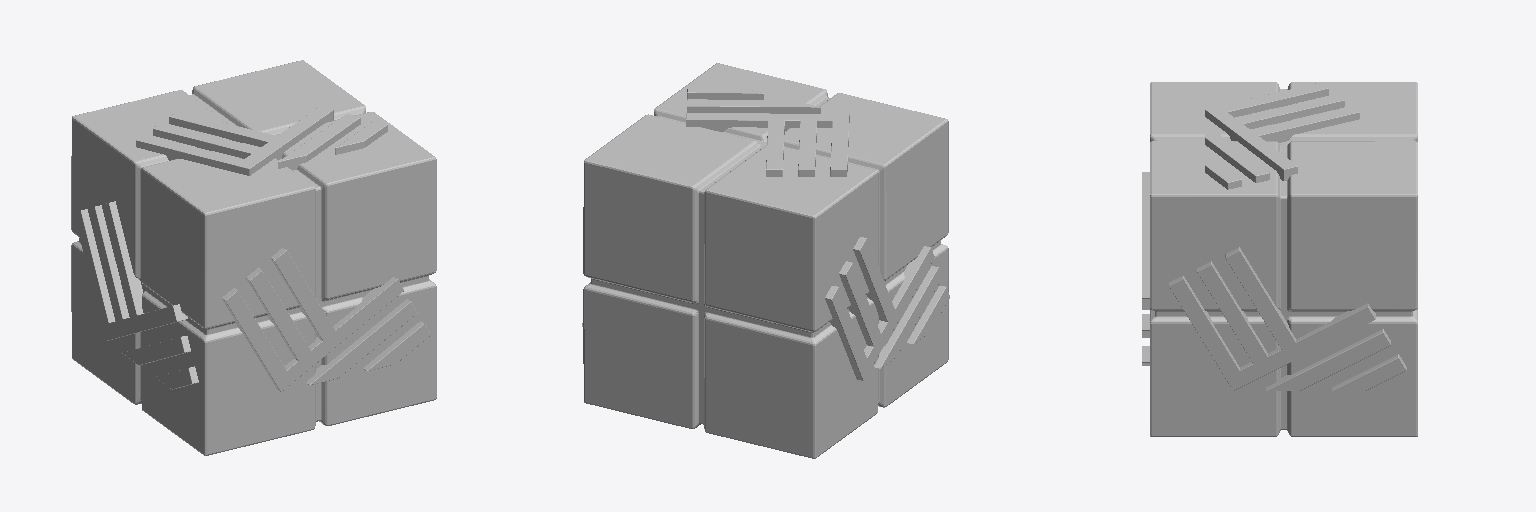
The model's file is dataPackage_GRP.obj.
The picture shows the model from 3 angles: view 1: azimuth 30°, elevation 25°; view 2: azimuth 150°, elevation 25°; view 3: azimuth 270°, elevation 25°; orthographic projection.
Visible parts, largest first — view 1: dataPackage_GEO dataPackage_GRP, dataPackage_GRP wing_GEO front_logoLiwest_GRP, dataPackage_GRP wing_GEO rgt_logoLiwest_GRP, dataPackage_GRP wing_GEO top_logoLiwest_GRP, dataPackage_GRP front_logoLiwest_GRP midPart_GEO, dataPackage_GRP top_logoLiwest_GRP midPart_GEO, dataPackage_GRP front_logoLiwest_GRP btmPart_GEO, dataPackage_GRP rgt_logoLiwest_GRP midPart_GEO, dataPackage_GRP top_logoLiwest_GRP btmPart_GEO, dataPackage_GRP rgt_logoLiwest_GRP btmPart_GEO; view 2: dataPackage_GEO dataPackage_GRP, dataPackage_GRP wing_GEO rgt_logoLiwest_GRP, dataPackage_GRP wing_GEO top_logoLiwest_GRP, dataPackage_GRP top_logoLiwest_GRP midPart_GEO, dataPackage_GRP rgt_logoLiwest_GRP midPart_GEO, dataPackage_GRP top_logoLiwest_GRP btmPart_GEO, dataPackage_GRP rgt_logoLiwest_GRP btmPart_GEO; view 3: dataPackage_GEO dataPackage_GRP, dataPackage_GRP wing_GEO lft_logoLiwest_GRP, dataPackage_GRP wing_GEO top_logoLiwest_GRP, dataPackage_GRP lft_logoLiwest_GRP midPart_GEO, dataPackage_GRP top_logoLiwest_GRP midPart_GEO, dataPackage_GRP lft_logoLiwest_GRP btmPart_GEO, dataPackage_GRP wing_GEO front_logoLiwest_GRP, dataPackage_GRP top_logoLiwest_GRP btmPart_GEO.
Part boxes in pixels (x1,y1,x2,y2): dataPackage_GEO dataPackage_GRP: (71,60,436,455); dataPackage_GRP wing_GEO front_logoLiwest_GRP: (222,248,403,391); dataPackage_GRP wing_GEO rgt_logoLiwest_GRP: (74,201,187,340); dataPackage_GRP wing_GEO top_logoLiwest_GRP: (136,106,333,175); dataPackage_GRP front_logoLiwest_GRP midPart_GEO: (306,299,417,384); dataPackage_GRP top_logoLiwest_GRP midPart_GEO: (278,114,360,170); dataPackage_GRP front_logoLiwest_GRP btmPart_GEO: (363,321,430,370); dataPackage_GRP rgt_logoLiwest_GRP midPart_GEO: (122,336,190,364); dataPackage_GRP top_logoLiwest_GRP btmPart_GEO: (335,121,387,154); dataPackage_GRP rgt_logoLiwest_GRP btmPart_GEO: (155,366,198,389); dataPackage_GEO dataPackage_GRP: (583,63,948,458); dataPackage_GRP wing_GEO rgt_logoLiwest_GRP: (825,237,934,380); dataPackage_GRP wing_GEO top_logoLiwest_GRP: (686,113,849,176); dataPackage_GRP top_logoLiwest_GRP midPart_GEO: (687,99,820,113); dataPackage_GRP rgt_logoLiwest_GRP midPart_GEO: (873,266,942,368); dataPackage_GRP top_logoLiwest_GRP btmPart_GEO: (687,86,763,99); dataPackage_GRP rgt_logoLiwest_GRP btmPart_GEO: (907,286,949,344); dataPackage_GEO dataPackage_GRP: (1150,82,1417,436); dataPackage_GRP wing_GEO lft_logoLiwest_GRP: (1169,247,1375,390); dataPackage_GRP wing_GEO top_logoLiwest_GRP: (1205,82,1359,180); dataPackage_GRP lft_logoLiwest_GRP midPart_GEO: (1266,329,1390,390); dataPackage_GRP top_logoLiwest_GRP midPart_GEO: (1205,124,1269,182); dataPackage_GRP lft_logoLiwest_GRP btmPart_GEO: (1332,354,1406,390); dataPackage_GRP wing_GEO front_logoLiwest_GRP: (1142,172,1149,309); dataPackage_GRP top_logoLiwest_GRP btmPart_GEO: (1205,151,1241,189).
Size of the model in its own units: 1.06 by 1.03 by 1.03.